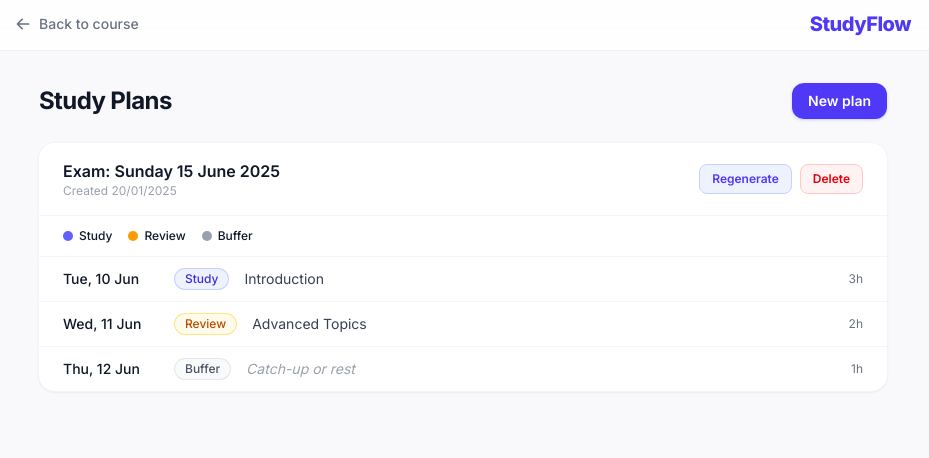
StudyPlan › collapses day row when clicked again
The image size is (929, 458).
# Click to expand
Click the text "Introduction" at x=284, y=278, box [244,270,324,287]
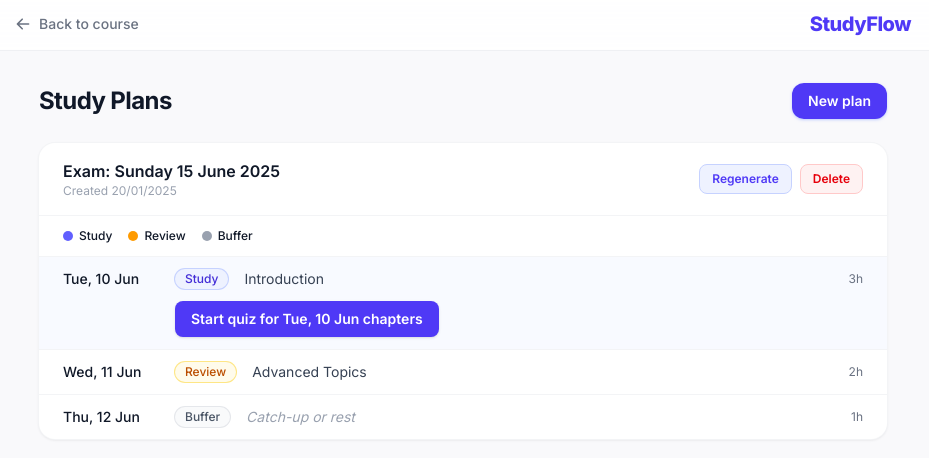
Result: the button "Start quiz for Tue, 10 Jun chapters" is shown at [175,301,439,337]
# Click again to collapse
Click the text "Introduction" at x=284, y=278, box [244,270,324,287]
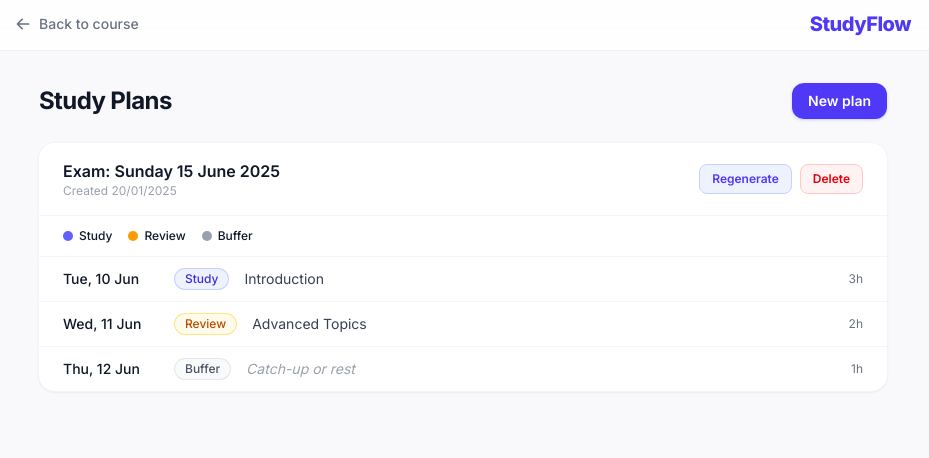
Result: the button "Start quiz for" is gone
